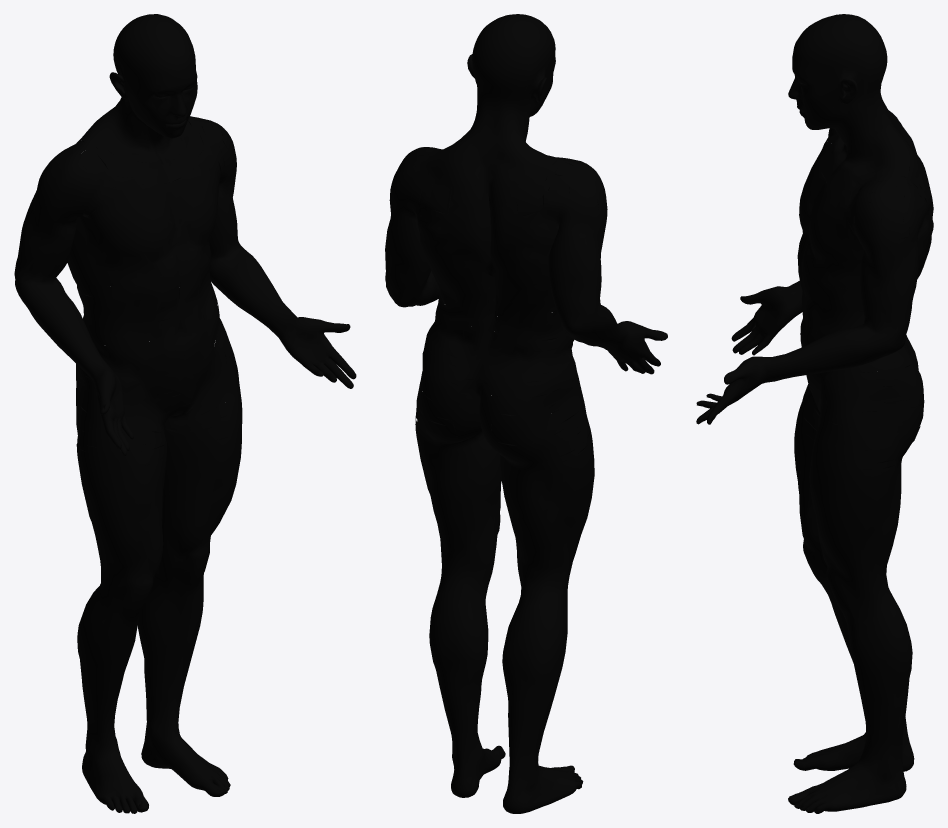
The model's file is schaduw.glb.
3 renders of one model, left to right at view 1: azimuth 30°, elevation 25°; view 2: azimuth 150°, elevation 25°; view 3: azimuth 270°, elevation 25°, orthographic.
Visible parts, largest first — view 1: mesh_id6, mesh_id8, mesh_id126, mesh_id9, mesh_id48, mesh_id106, mesh_id54, mesh_id30, mesh_id12, mesh_id88, mesh_id10, mesh_id112 (+3 smaller); view 2: mesh_id6, mesh_id9, mesh_id8, mesh_id126, mesh_id48, mesh_id106, mesh_id30, mesh_id54, mesh_id112, mesh_id88, mesh_id12, mesh_id44 (+12 smaller); view 3: mesh_id6, mesh_id8, mesh_id9, mesh_id126, mesh_id106, mesh_id88, mesh_id112, mesh_id100, mesh_id70, mesh_id48, mesh_id82, mesh_id113 (+7 smaller).
Part boxes in pixels (x1,y1,x2,y2): mesh_id6: (77,411,241,813); mesh_id8: (14,154,356,455); mesh_id126: (67,156,220,361); mesh_id9: (88,14,197,164); mesh_id48: (76,161,184,434); mesh_id106: (124,147,239,411); mesh_id54: (76,140,161,447); mesh_id30: (76,344,184,454); mesh_id12: (75,281,179,324); mesh_id88: (161,288,241,432); mesh_id10: (77,274,180,313); mesh_id112: (130,118,241,417); mesh_id6: (417,416,594,813); mesh_id9: (440,14,555,185); mesh_id8: (385,190,667,373); mesh_id126: (417,153,569,305); mesh_id48: (478,164,587,456); mesh_id106: (416,293,517,436); mesh_id30: (479,342,591,466); mesh_id54: (479,158,590,463); mesh_id112: (416,148,493,442); mesh_id88: (415,304,513,444); mesh_id12: (494,199,561,331); mesh_id44: (478,344,572,449); mesh_id6: (788,409,914,813); mesh_id8: (696,167,918,424); mesh_id9: (788,14,922,176); mesh_id126: (797,150,933,346); mesh_id106: (802,168,924,450); mesh_id88: (806,348,922,468); mesh_id112: (809,175,928,463); mesh_id100: (808,372,923,469); mesh_id70: (804,180,929,321); mesh_id48: (801,137,918,407); mesh_id82: (809,166,932,331); mesh_id113: (849,180,926,234).
Size of the model in its own units: 0.512 by 1.51 by 0.4223.
3 materials, 3 textured.
